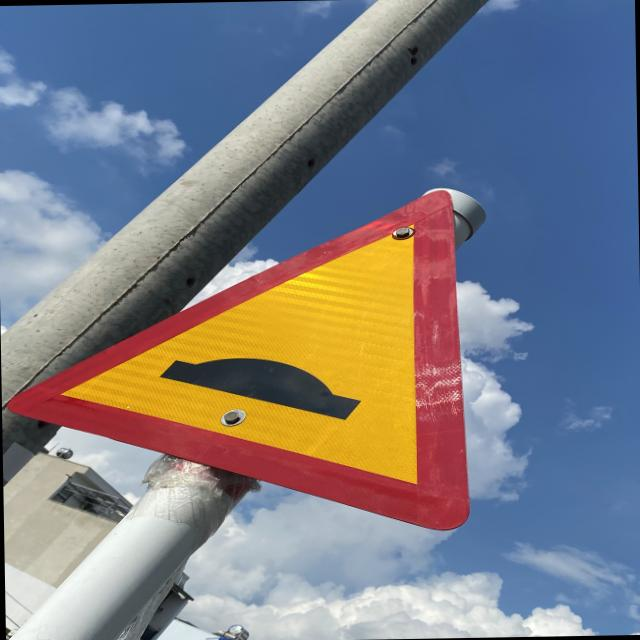Duong_Cong_Ben_Phai: (3, 188, 466, 537)
